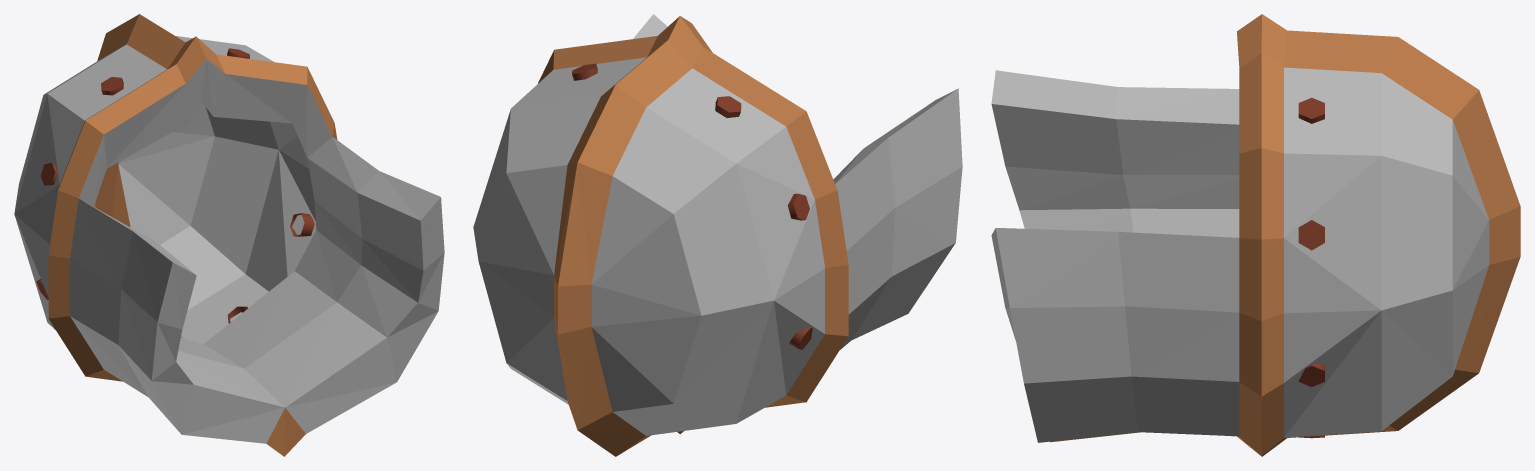
Rendered from Helmet 05.FBX.
3 views of the same model, side by side, from view 1: azimuth 30°, elevation 25°; view 2: azimuth 150°, elevation 25°; view 3: azimuth 270°, elevation 25° (orthographic). The views are drawn at different scales.
Visible parts, largest first — view 1: Helmet 05; view 2: Helmet 05; view 3: Helmet 05.
Boxes of the visible parts, <box> form: Helmet 05: <box>14,14,444,456</box>; Helmet 05: <box>473,14,962,456</box>; Helmet 05: <box>991,14,1520,456</box>.
Bounding box in the file's own units: 38.2 × 49.17 × 45.42.
